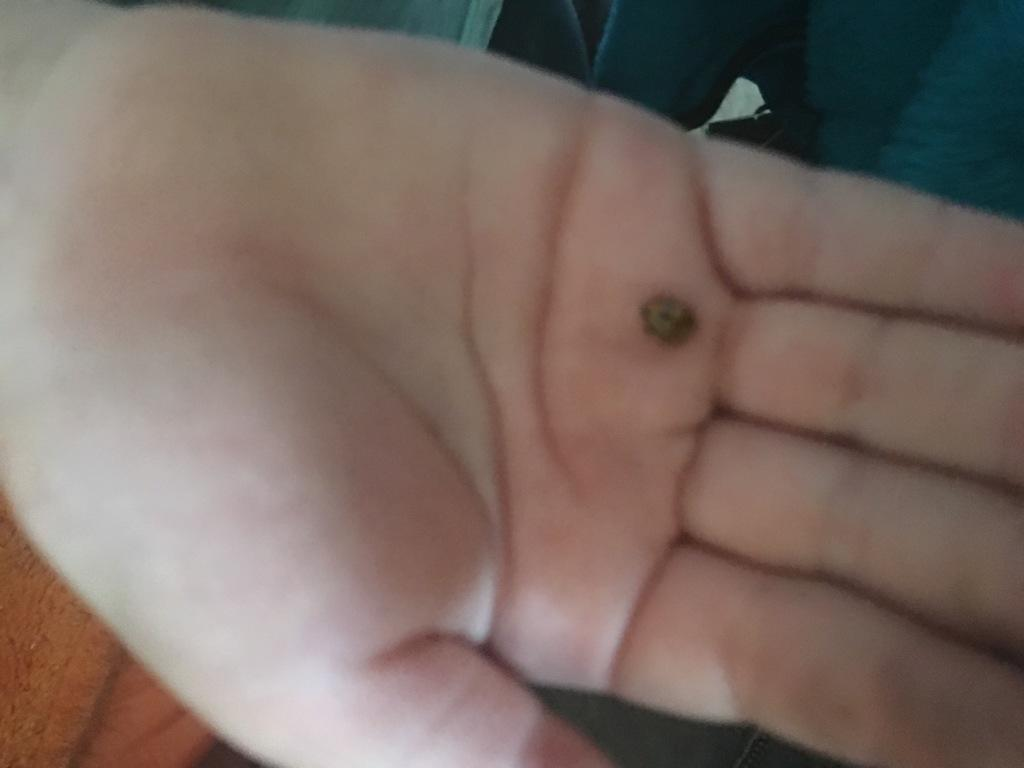ladybug: (641, 292, 701, 345)
